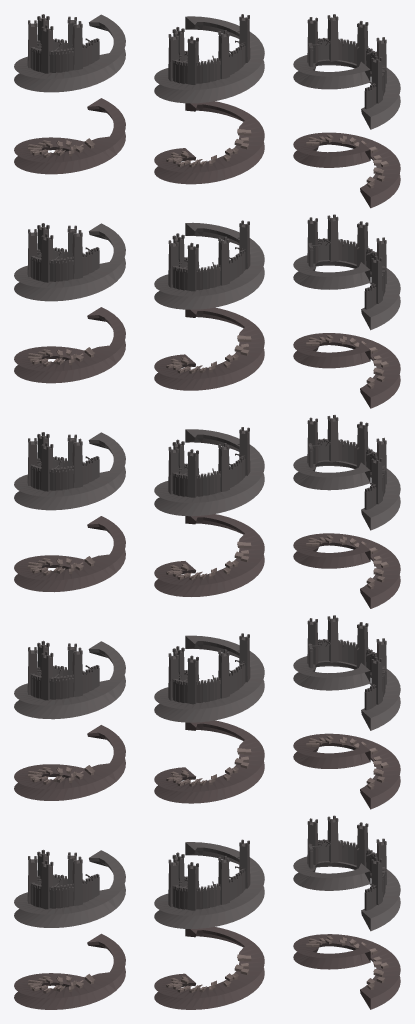
3 views of the same model, side by side, from view 1: azimuth 90°, elevation 25°; view 2: azimuth 150°, elevation 25°; view 3: azimuth 330°, elevation 25° (orthographic). The views are drawn at different scales.
Visible parts, largest first — view 1: Circle6; view 2: Circle6; view 3: Circle6.
Boxes of the visible parts, x1,y1,x2,y2 form: Circle6: [14, 14, 125, 1009]; Circle6: [154, 14, 264, 1009]; Circle6: [293, 14, 400, 1009].
Size of the model in its own units: 38.86 by 386 by 38.86.
1 material, 1 textured.
